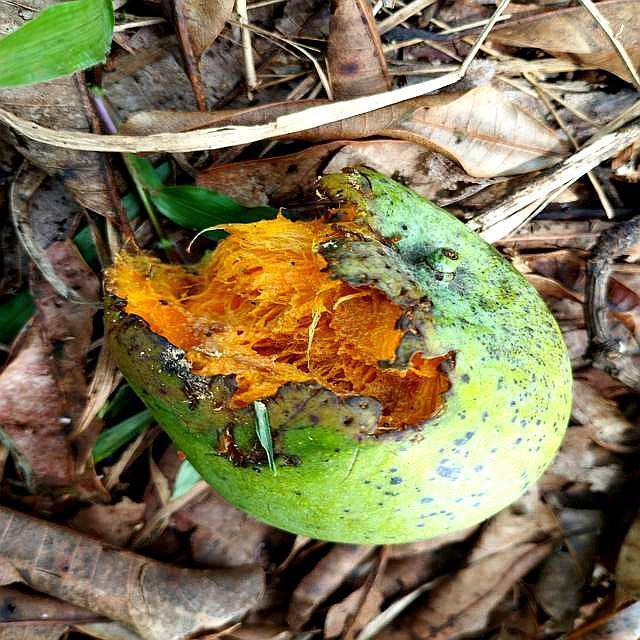Biodegradable: (107, 169, 573, 549)
